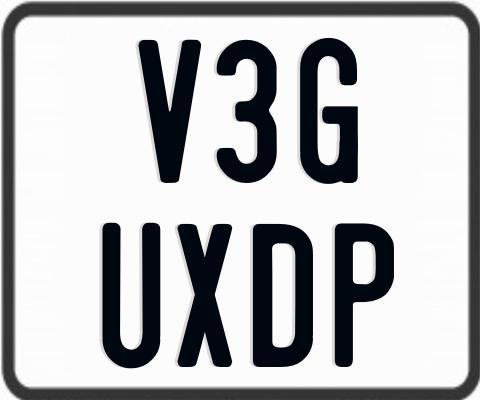3: (215, 39, 279, 186)
D: (250, 221, 315, 369)
G: (297, 37, 361, 189)
P: (333, 220, 397, 368)
U: (100, 220, 159, 366)
V: (136, 40, 202, 187)
X: (177, 223, 234, 372)
